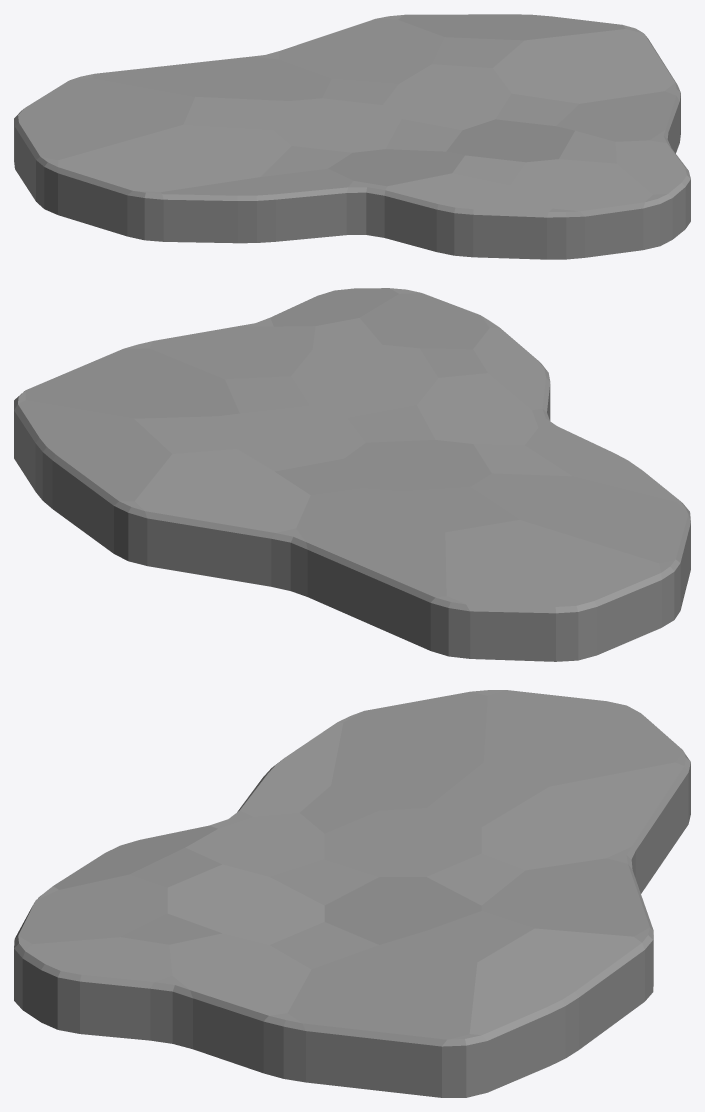
File: PathStone_2.fbx
3 renders of one model, top to bottom at view 1: azimuth 30°, elevation 25°; view 2: azimuth 150°, elevation 25°; view 3: azimuth 270°, elevation 25°, orthographic. The views are drawn at different scales.
Parts seen in each view (by area): view 1: PathStone_2; view 2: PathStone_2; view 3: PathStone_2.
Boxes of the visible parts, box(x1,y1,x2,y2) form: PathStone_2: box(14, 14, 690, 259); PathStone_2: box(14, 288, 690, 661); PathStone_2: box(14, 690, 690, 1097).
Size of the model in its own units: 13.31 by 1.22 by 10.78.
